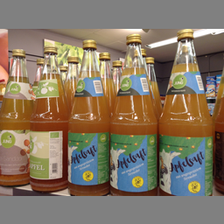juice: (157, 29, 215, 195), (110, 33, 159, 194), (67, 39, 111, 195), (30, 46, 69, 193), (1, 48, 32, 187)
